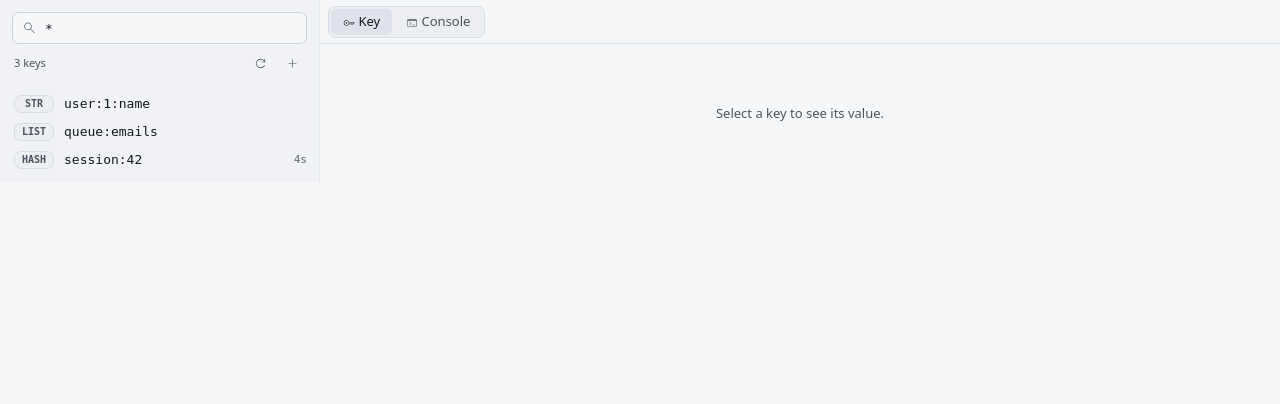
Test: RedisView › opening keys › reloads the open key
This screenshot has width=1280, height=404.
Click the option "STR user:1:name". click: (34, 104)
box: 6,90 -> 313,118
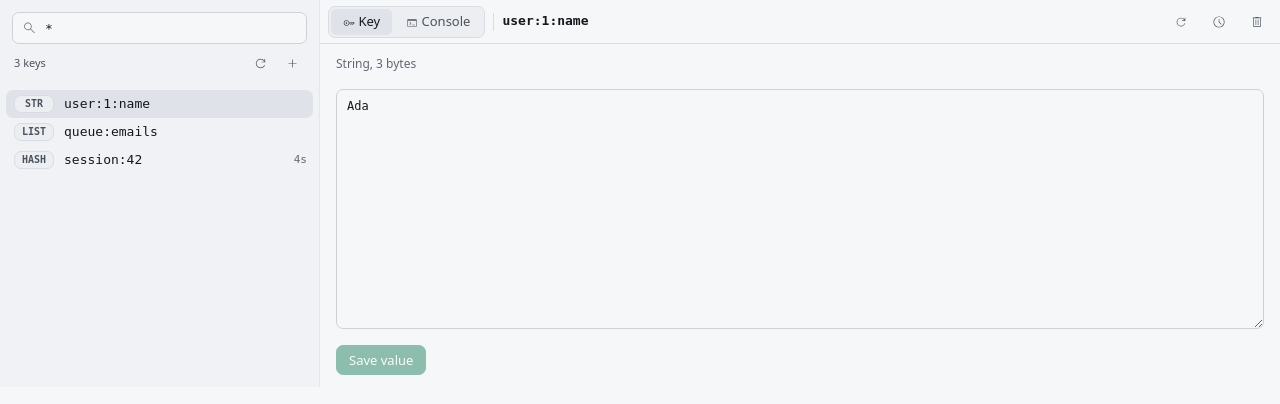
expect the text box named "Value" is shown: met, box 336,89 -> 1264,329
Click the button named "Reload key". click: (1181, 22)
box: 1166,6 -> 1196,36
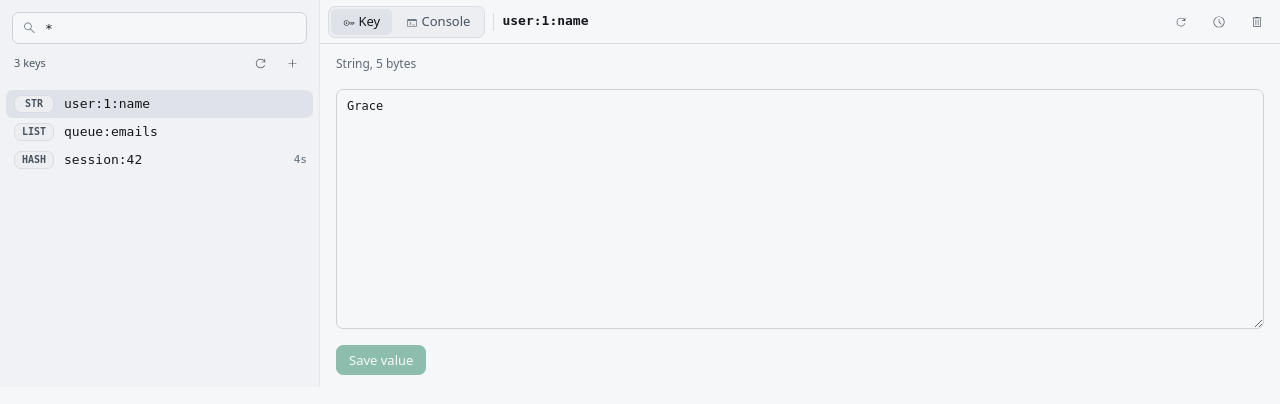
expect the text box named "Value" holds "Grace": met, box 336,89 -> 1264,329
